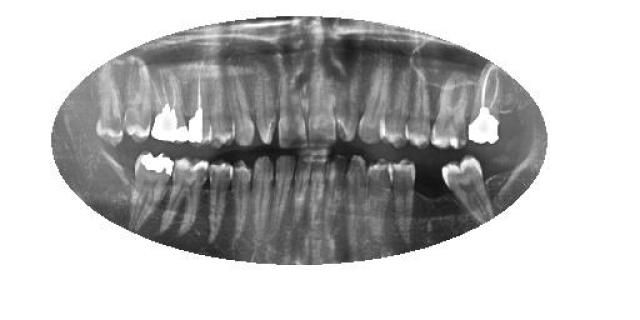Fillings: (121, 152, 174, 228)
Implant: (466, 63, 506, 144), (149, 66, 186, 142), (184, 72, 211, 148)
